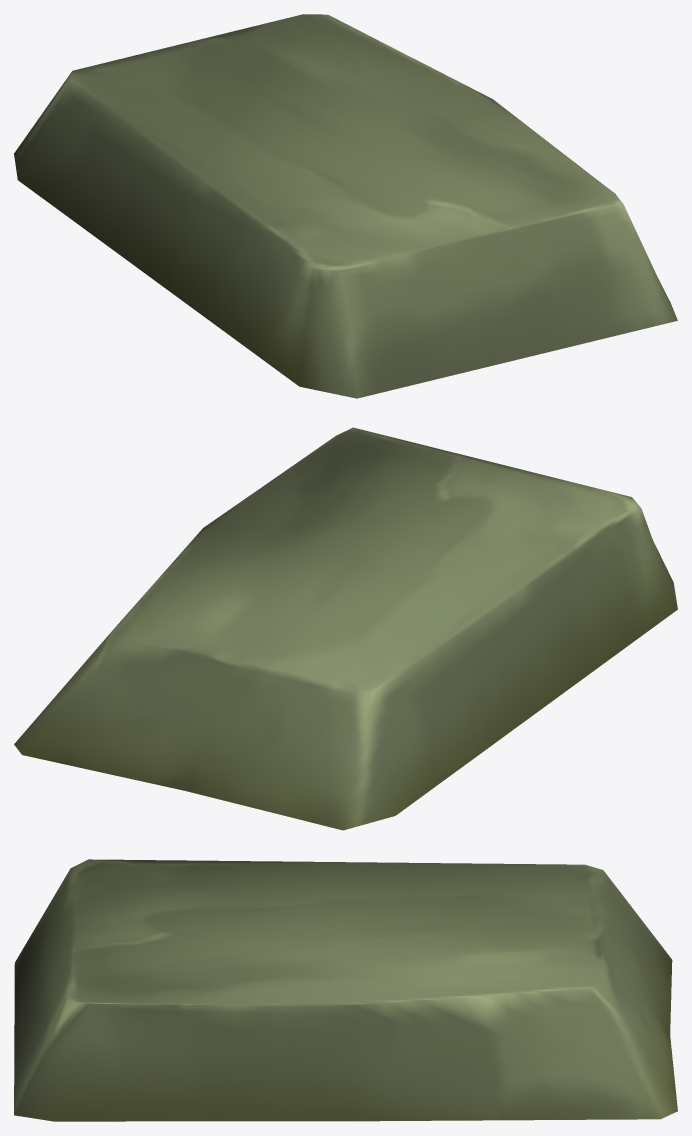
File: ROK0110049.fbx
3 views of the same model, one above another, from view 1: azimuth 30°, elevation 25°; view 2: azimuth 150°, elevation 25°; view 3: azimuth 270°, elevation 25° (orthographic). The views are drawn at different scales.
Visible parts, largest first — view 1: smROK0110049; view 2: smROK0110049; view 3: smROK0110049.
Part boxes in pixels (bbox=[...]): smROK0110049: bbox=[14, 14, 677, 398]; smROK0110049: bbox=[14, 427, 677, 830]; smROK0110049: bbox=[14, 859, 677, 1121].
Size of the model in its own units: 33.72 by 9.12 by 54.52.
Materials: 1 (1 with a texture image).
